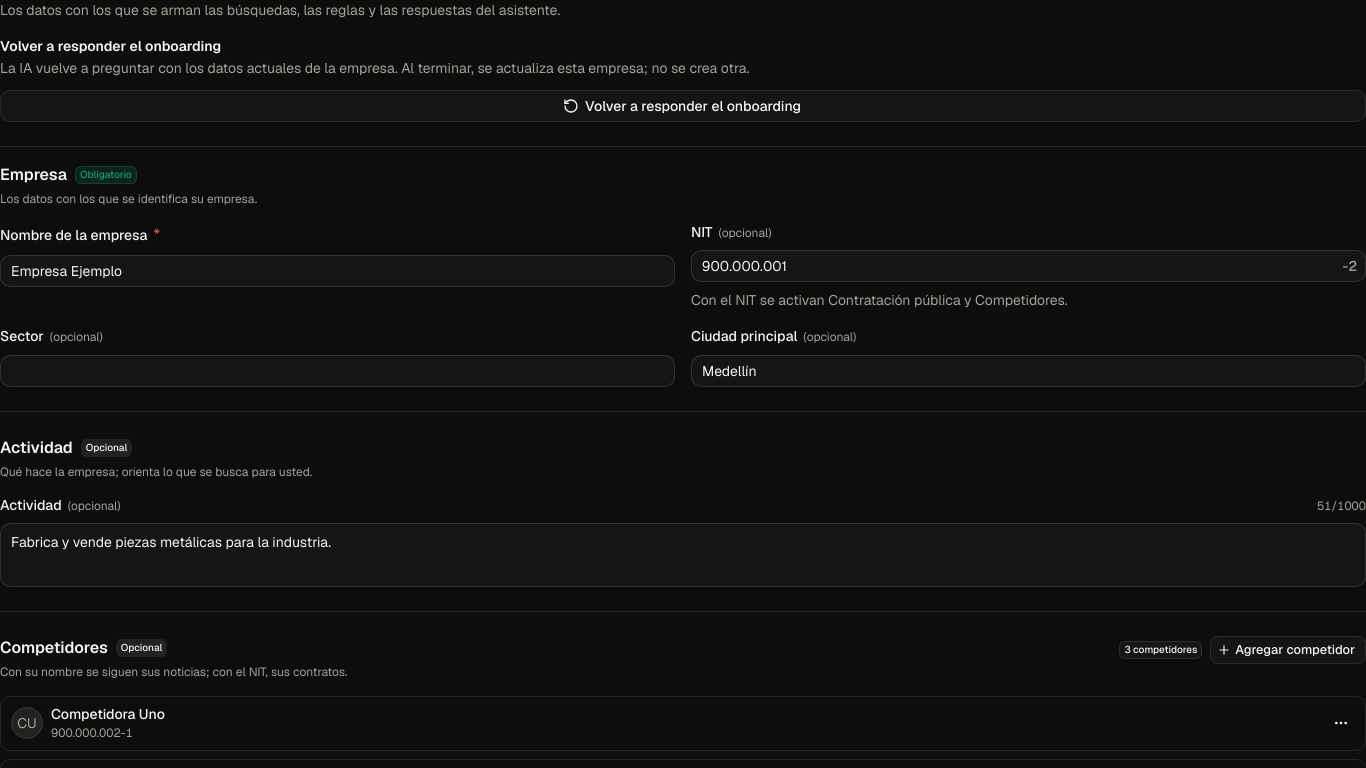
Scenario: EmpresaTab › discards the edits and hides the actions
Type "x" into the field labelled "Ciudad principal" at (1028, 370), box [691,354,1365,386]
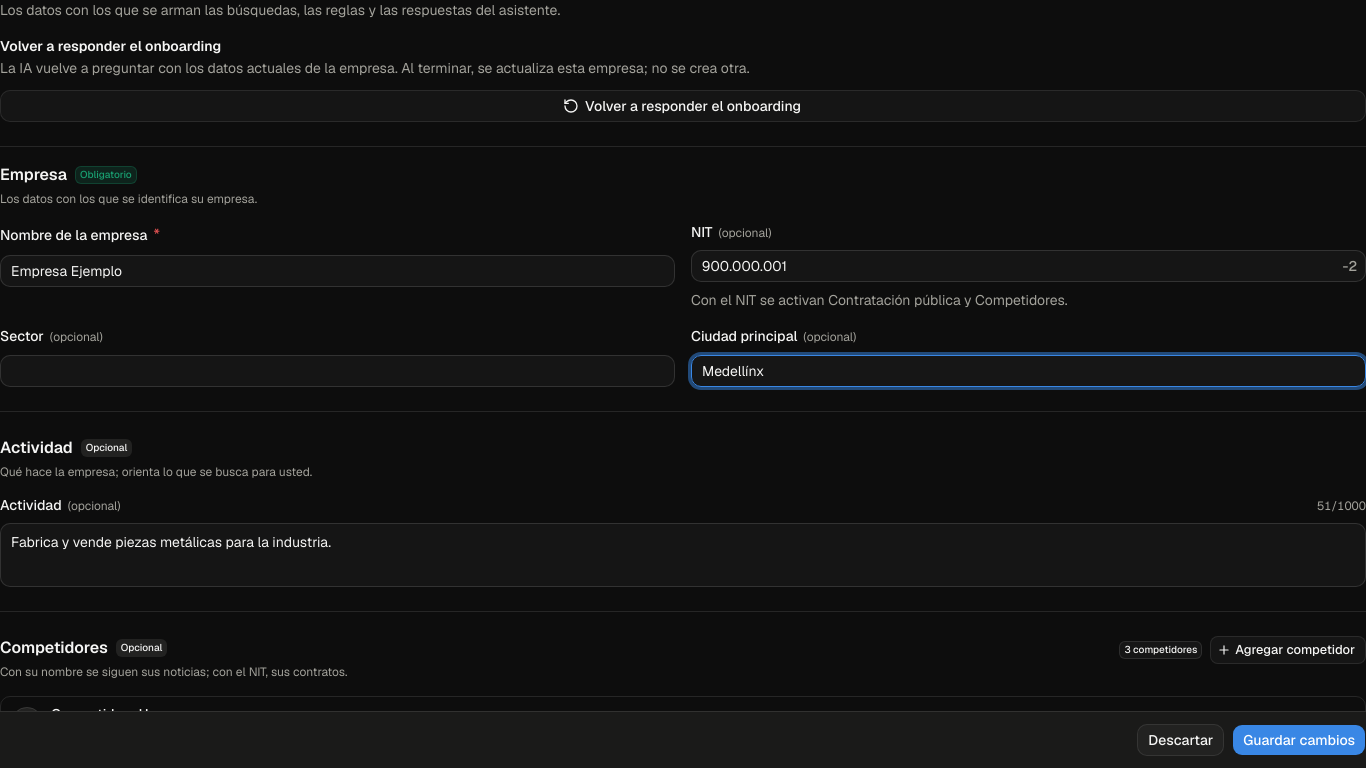
Click the button "Descartar" at (1181, 740), box [1137,724,1224,756]
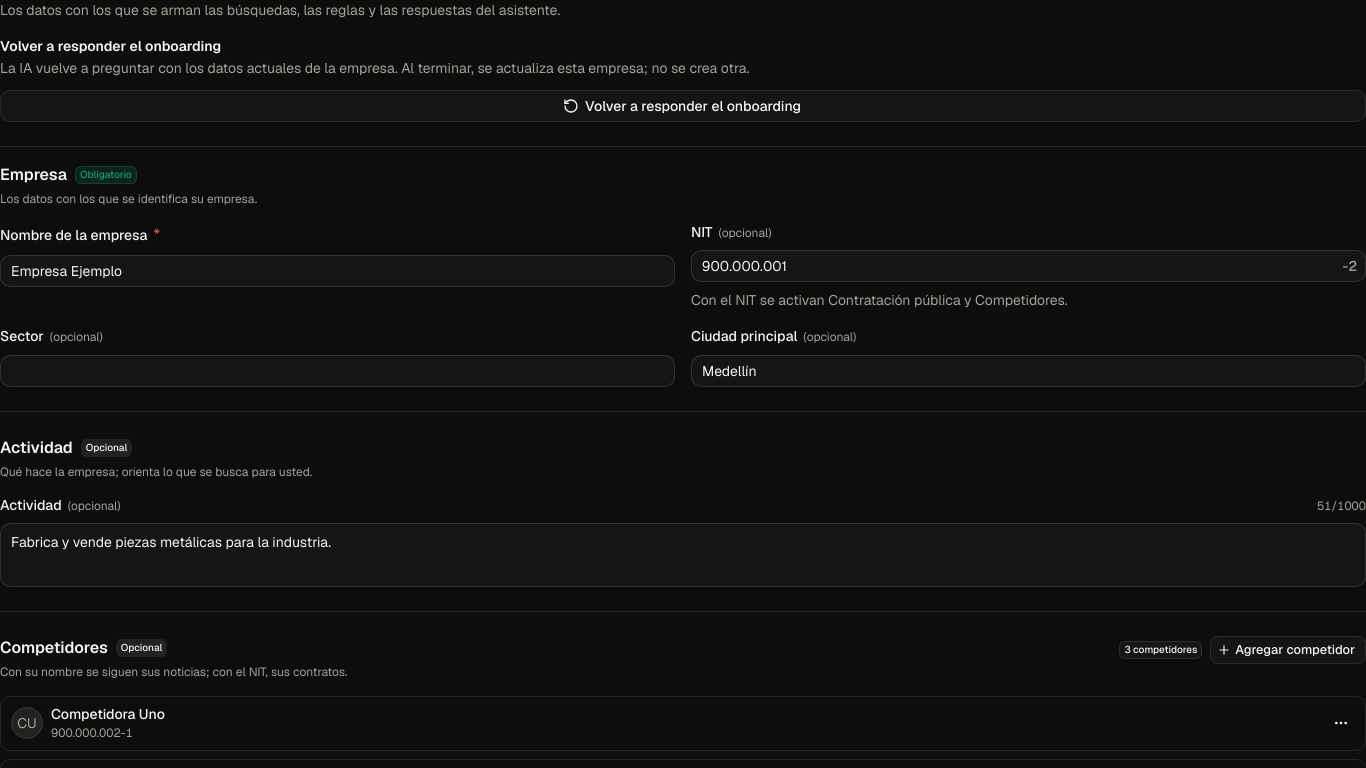
Now the field labelled "Ciudad principal" holds "Medellín", box [691,354,1365,386]
Now the button "Guardar cambios" is gone
